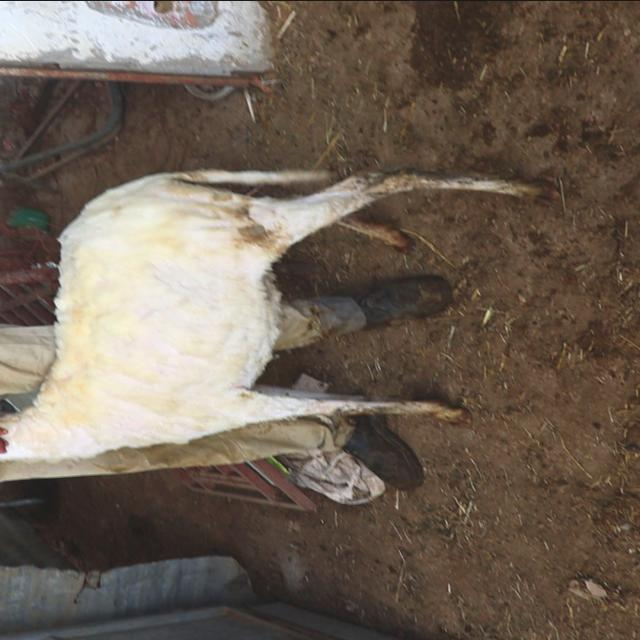Score_4: (0, 169, 556, 462)
